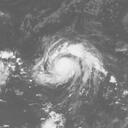cyclone: (34, 43, 91, 88)
